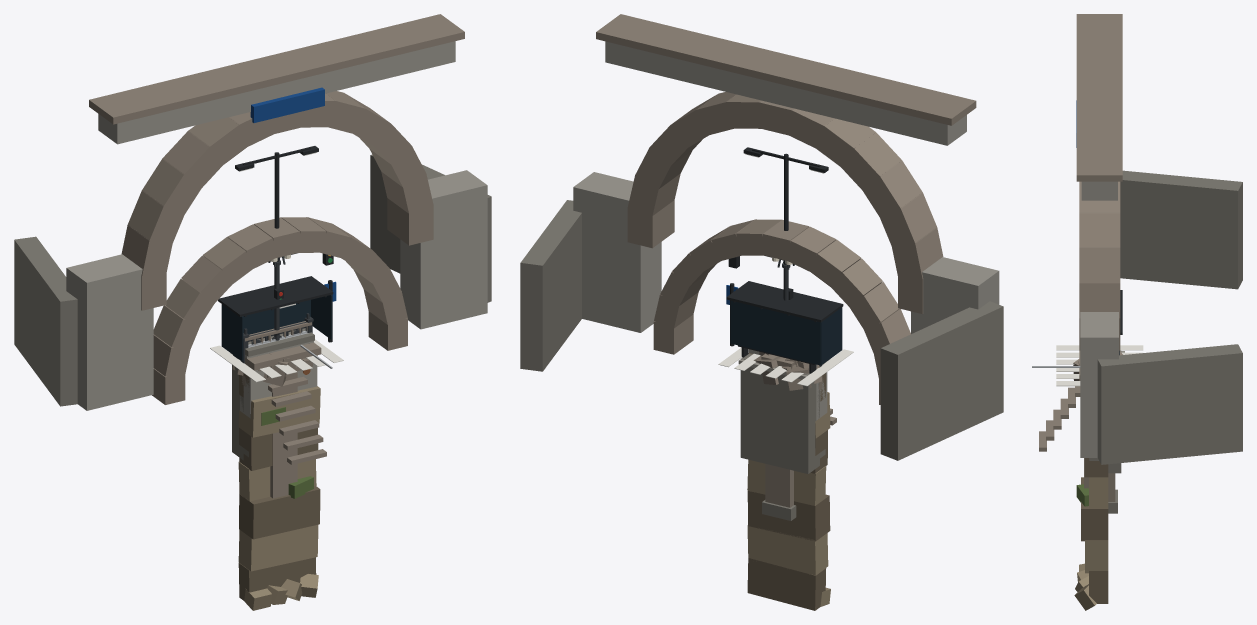
The model's file is infra_kit.fbx.
The picture shows the model from 3 angles, left to right: view 1: azimuth 30°, elevation 25°; view 2: azimuth 150°, elevation 25°; view 3: azimuth 270°, elevation 25°; orthographic projection. The views are drawn at different scales.
Parts seen in each view (by area): view 1: tunnel_portal, arch_ring, cliff, busstop, quay, quay_step, arch_rib, crossing, underpass_wall, pylon_lamp; view 2: tunnel_portal, arch_ring, cliff, busstop, quay, arch_rib, crossing, pylon_lamp, riprap; view 3: tunnel_portal, cliff, quay_step, crossing, arch_rib.
Part boxes in pixels (left/top/right/bottom): tunnel_portal: left=14, top=14, right=491, bottom=410; arch_ring: left=152, top=217, right=407, bottom=404; cliff: left=238, top=373, right=320, bottom=610; busstop: left=218, top=276, right=336, bottom=361; quay: left=232, top=342, right=321, bottom=460; quay_step: left=267, top=345, right=332, bottom=464; arch_rib: left=270, top=366, right=297, bottom=498; crossing: left=210, top=339, right=343, bottom=382; underpass_wall: left=240, top=313, right=314, bottom=413; pylon_lamp: left=235, top=146, right=318, bottom=261; tunnel_portal: left=520, top=14, right=1003, bottom=460; arch_ring: left=653, top=219, right=910, bottom=404; cliff: left=747, top=353, right=830, bottom=610; busstop: left=726, top=281, right=843, bottom=373; quay: left=740, top=354, right=829, bottom=473; arch_rib: left=761, top=353, right=796, bottom=520; crossing: left=718, top=347, right=853, bottom=386; pylon_lamp: left=743, top=147, right=828, bottom=264; riprap: left=753, top=351, right=822, bottom=390; tunnel_portal: left=1076, top=14, right=1242, bottom=464; cliff: left=1074, top=458, right=1108, bottom=610; quay_step: left=1032, top=366, right=1080, bottom=451; crossing: left=1056, top=345, right=1143, bottom=386; arch_rib: left=1084, top=458, right=1117, bottom=513.
Size of the model in its own units: 1939 by 2294 by 873.
